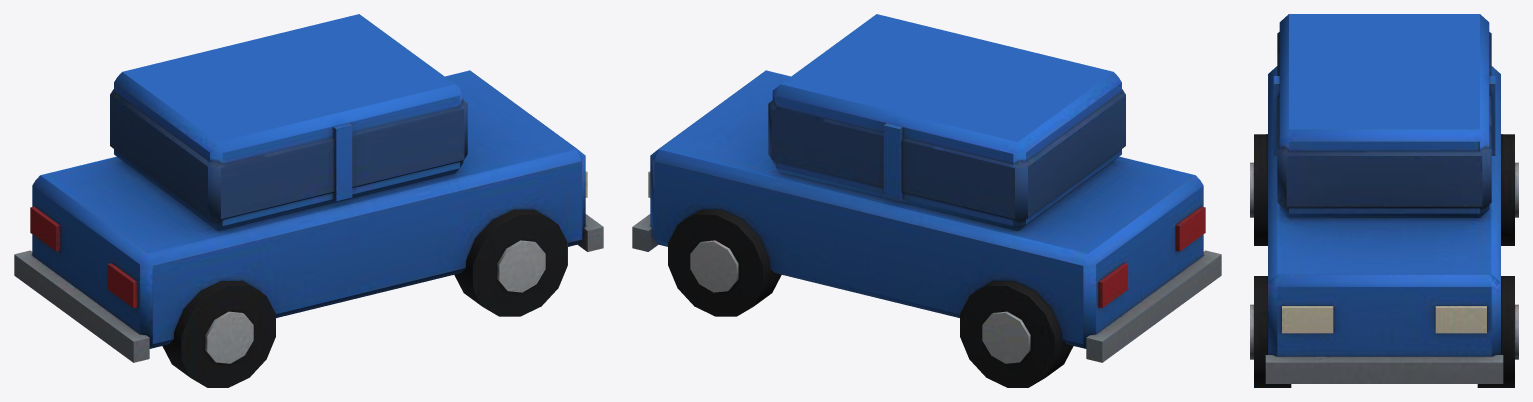
File: coche_azul.glb
3 renders of one model, left to right at view 1: azimuth 30°, elevation 25°; view 2: azimuth 150°, elevation 25°; view 3: azimuth 270°, elevation 25°, orthographic.
Parts seen in each view (by area): view 1: coche_azul; view 2: coche_azul; view 3: coche_azul.
Boxes of the visible parts, x1=… form: coche_azul: x1=14, y1=14, x2=603, y2=387; coche_azul: x1=632, y1=14, x2=1221, y2=387; coche_azul: x1=1250, y1=14, x2=1518, y2=387.
Bounding box in the file's own units: 2.32 × 1.09 × 1.15.
1 material, 1 textured.
